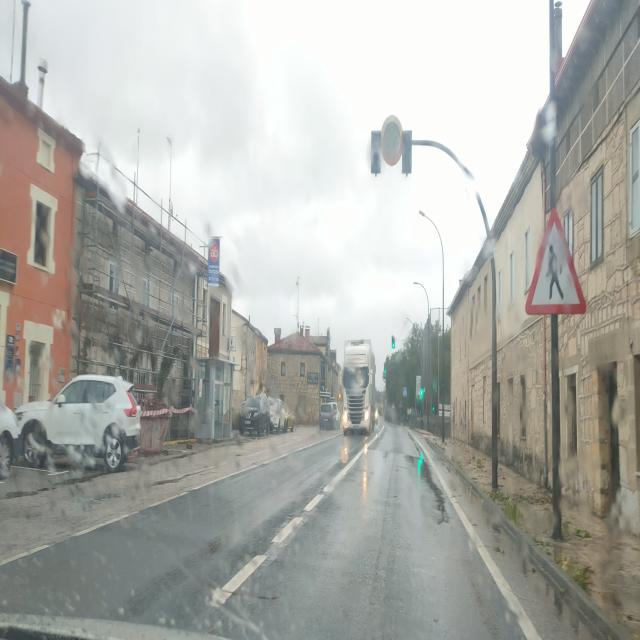Poth-hole: (406, 428, 452, 529)
